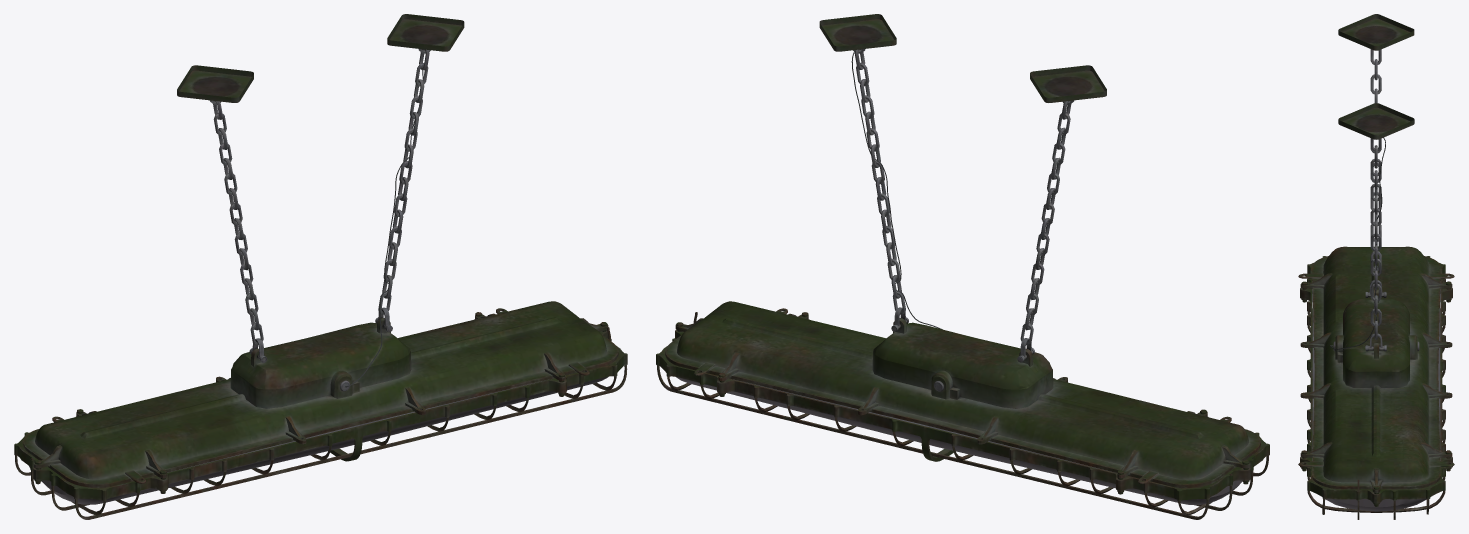
Rendered from prop-lamp-caged-hanging.glb.
3 views of the same model, side by side, from view 1: azimuth 30°, elevation 25°; view 2: azimuth 150°, elevation 25°; view 3: azimuth 270°, elevation 25° (orthographic). The views are drawn at different scales.
Parts seen in each view (by area): view 1: caged_hanging_light; view 2: caged_hanging_light; view 3: caged_hanging_light.
Boxes of the visible parts, x1=… form: caged_hanging_light: x1=14, y1=14, x2=627, y2=519; caged_hanging_light: x1=656, y1=14, x2=1269, y2=519; caged_hanging_light: x1=1298, y1=14, x2=1454, y2=519.
Size of the model in its own units: 1.16 by 0.7501 by 0.3149.
1 material, 1 textured.
